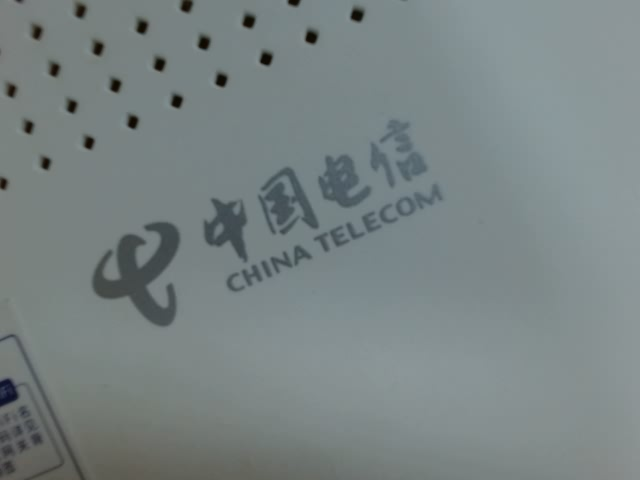AB_ChinaTelecom: (62, 117, 476, 335)
